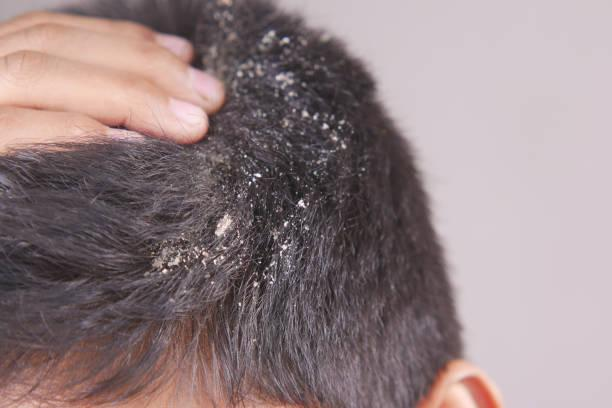dandruff: (137, 182, 294, 281), (220, 126, 308, 210), (226, 21, 298, 109), (277, 118, 375, 168), (309, 97, 376, 153), (275, 188, 326, 242)
